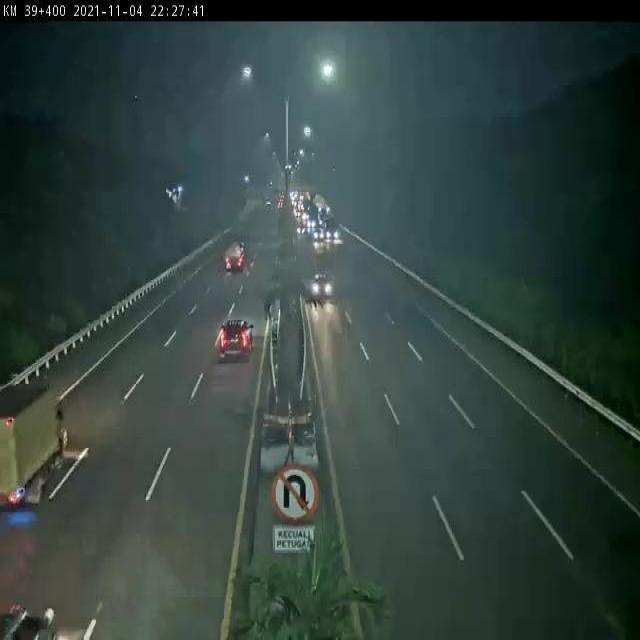car: (218, 315, 254, 357), (310, 271, 333, 301)
truck-l-: (224, 238, 247, 274)
